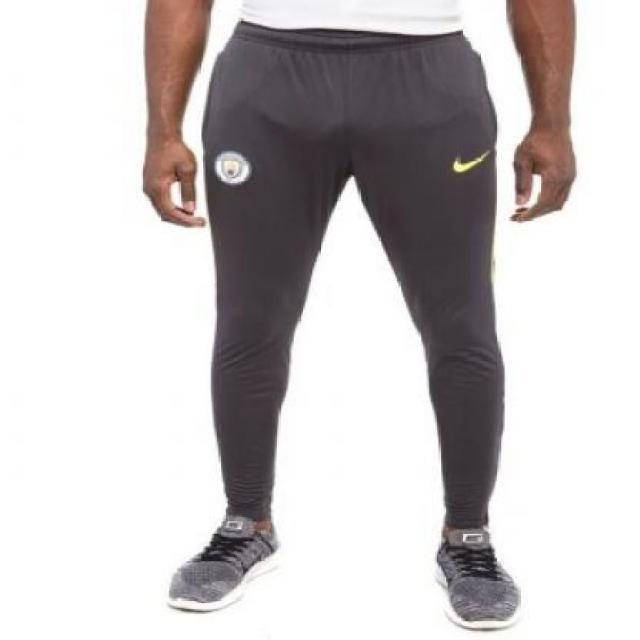Nike: (448, 149, 488, 174)
